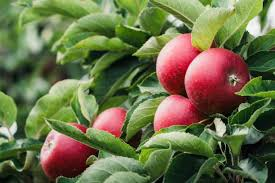apple: (184, 48, 252, 119)
